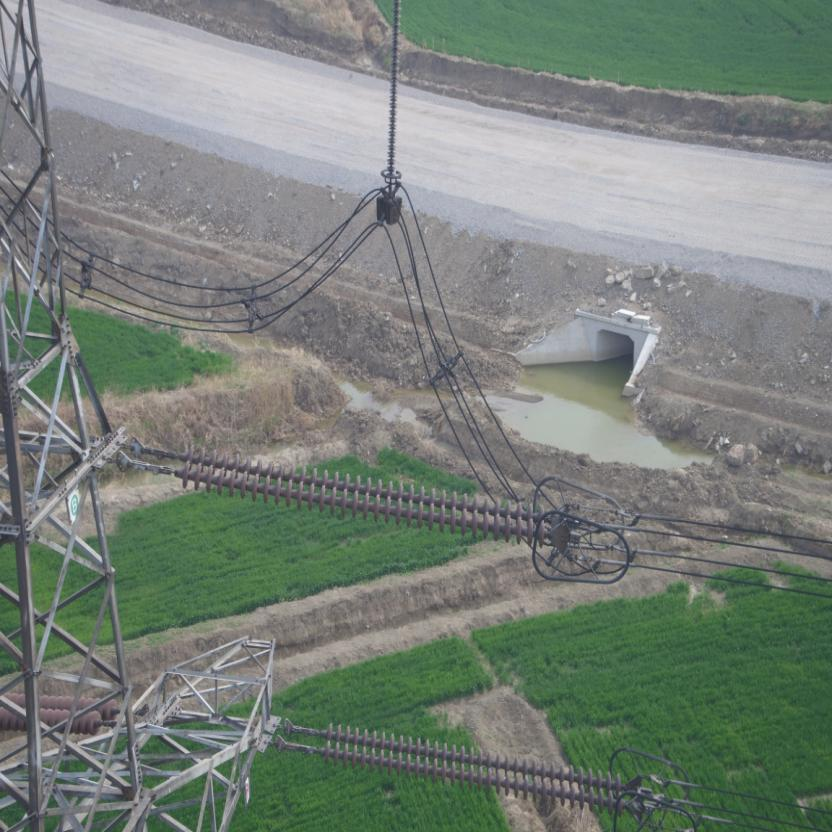insulator: (152, 442, 560, 549), (304, 718, 638, 816)
